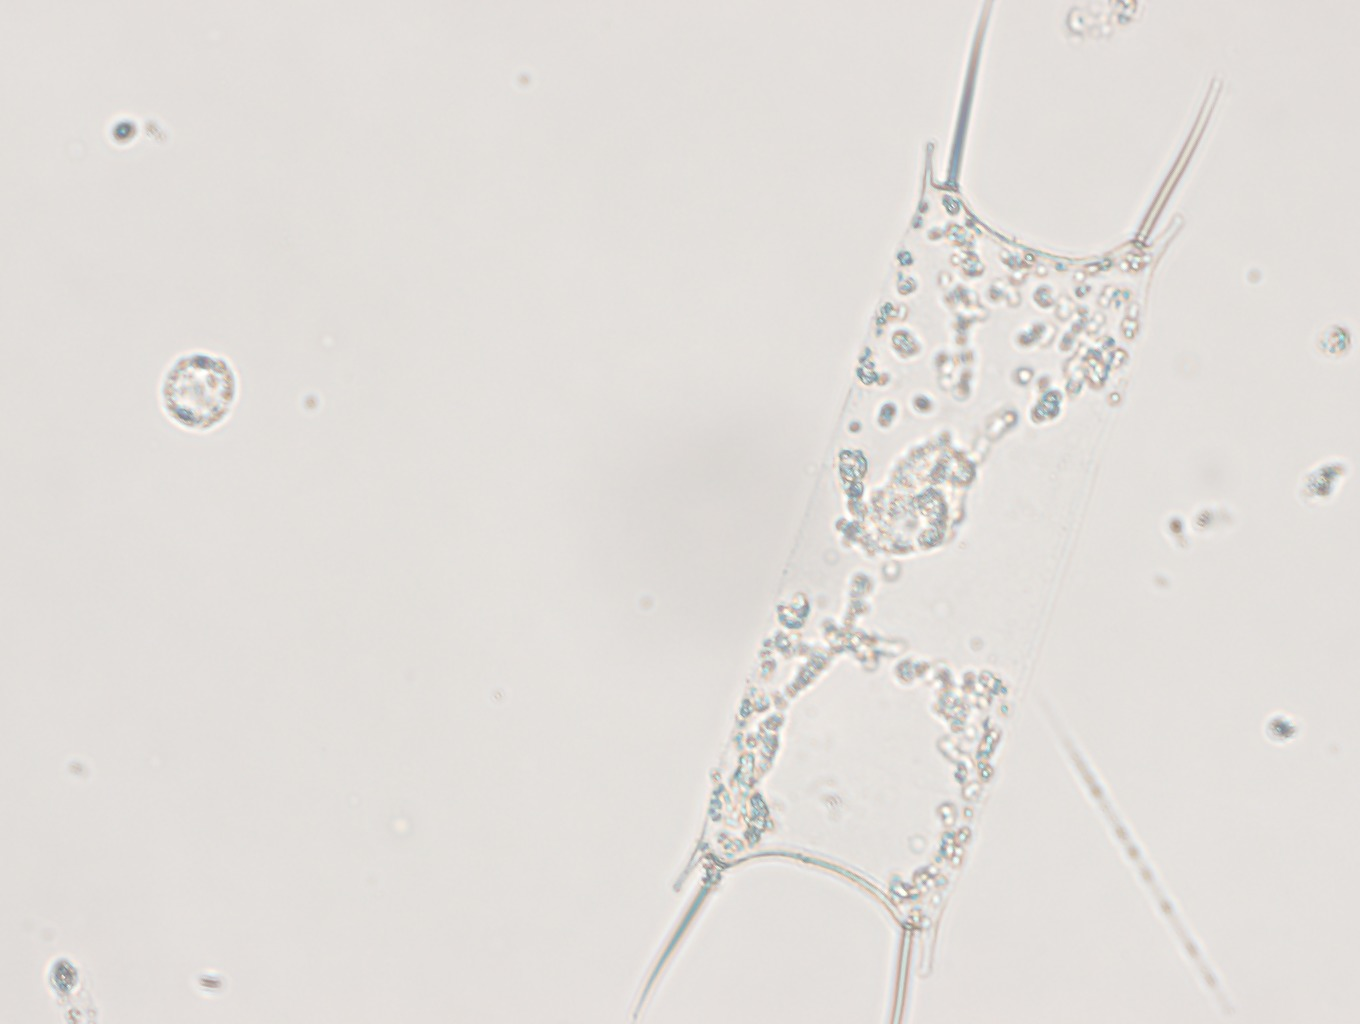biddulphia: (636, 8, 1233, 1024)
